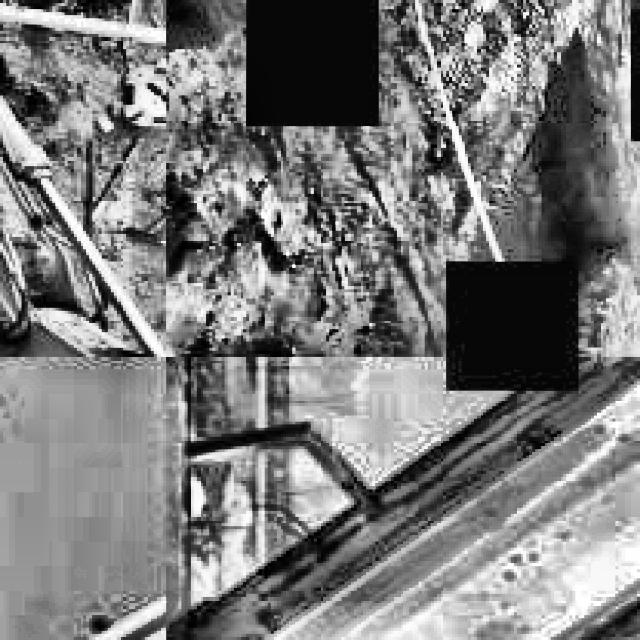dump_truck: (166, 357, 640, 640)
